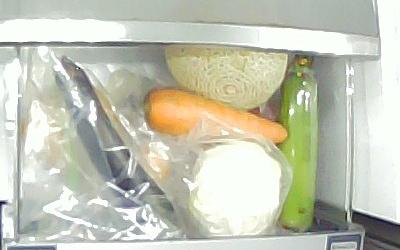cabbage_vinyl: (181, 139, 282, 236)
carrot: (141, 84, 288, 144)
eggplant_vinyl: (53, 53, 176, 228)
melon: (163, 44, 288, 109)
zucchini: (276, 67, 317, 232)
